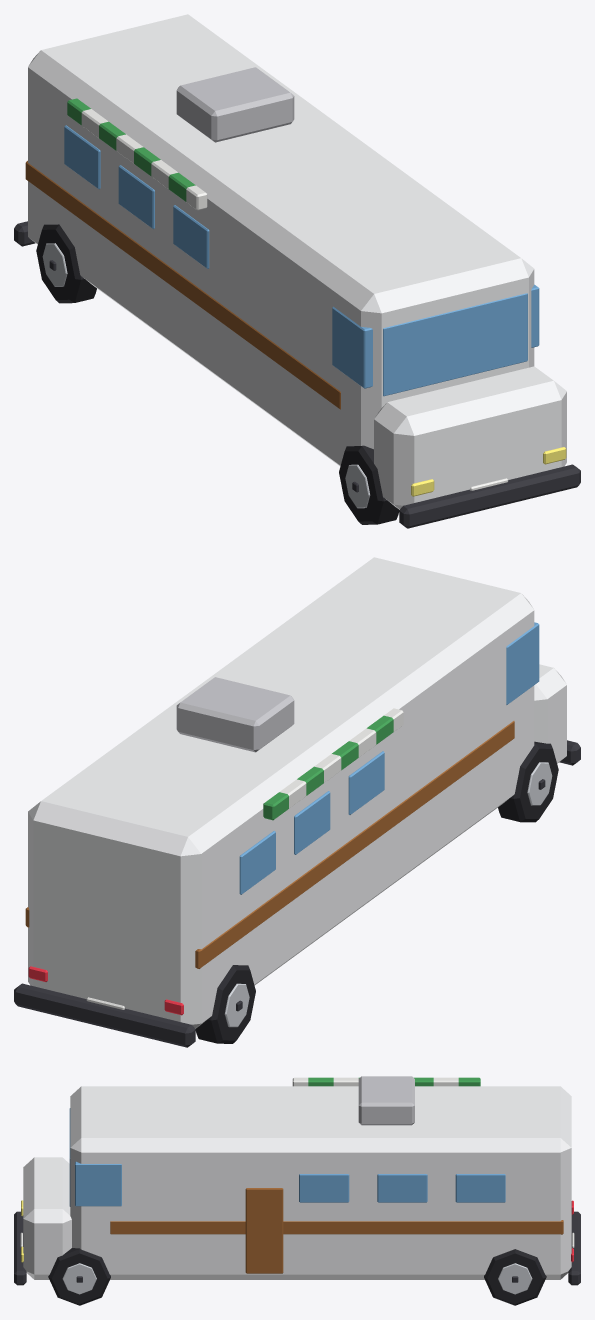
File: CamperRV.fbx
The picture shows the model from 3 angles, top to bottom: view 1: azimuth 30°, elevation 25°; view 2: azimuth 150°, elevation 25°; view 3: azimuth 270°, elevation 25°; orthographic projection. The views are drawn at different scales.
Visible parts, largest first — view 1: CamperRV, CamperRV_WheelFR, CamperRV_WheelBR; view 2: CamperRV, CamperRV_WheelFR, CamperRV_WheelBR; view 3: CamperRV, CamperRV_WheelFL, CamperRV_WheelBL.
Boxes of the visible parts, x1,y1,x2,y2 form: CamperRV: (14, 14, 580, 528); CamperRV_WheelFR: (339, 445, 399, 524); CamperRV_WheelBR: (36, 224, 96, 303); CamperRV: (14, 557, 580, 1047); CamperRV_WheelFR: (498, 741, 558, 822); CamperRV_WheelBR: (195, 965, 255, 1043); CamperRV: (14, 1076, 580, 1285); CamperRV_WheelFL: (48, 1248, 110, 1305); CamperRV_WheelBL: (484, 1249, 546, 1305).
Bounding box in the file's own units: 5.26 × 6.55 × 18.1.
Materials: 1 (1 with a texture image).
